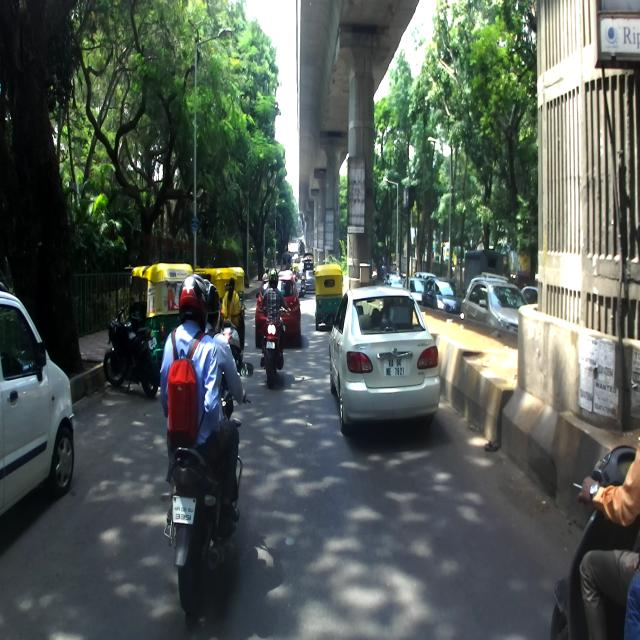car ahead at: (0, 289, 76, 528), (325, 285, 445, 435)
motorcycle ahead at: (158, 269, 251, 618), (258, 269, 286, 382)
